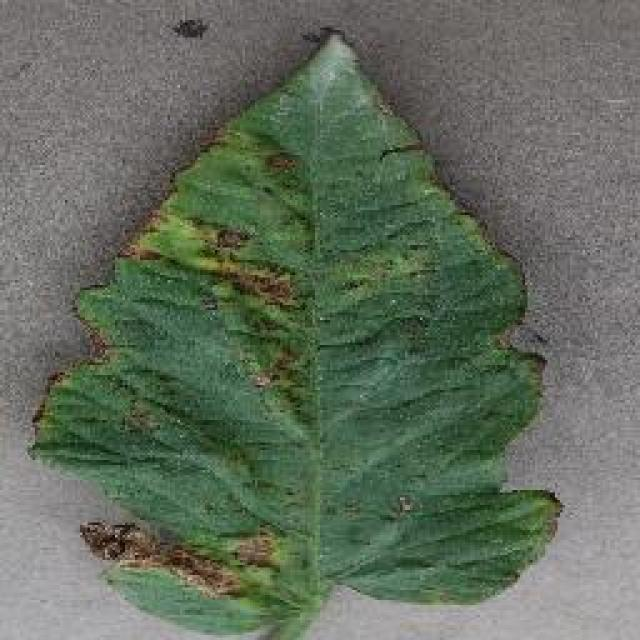Tomato___Bacterial_spot: (22, 24, 565, 638)
